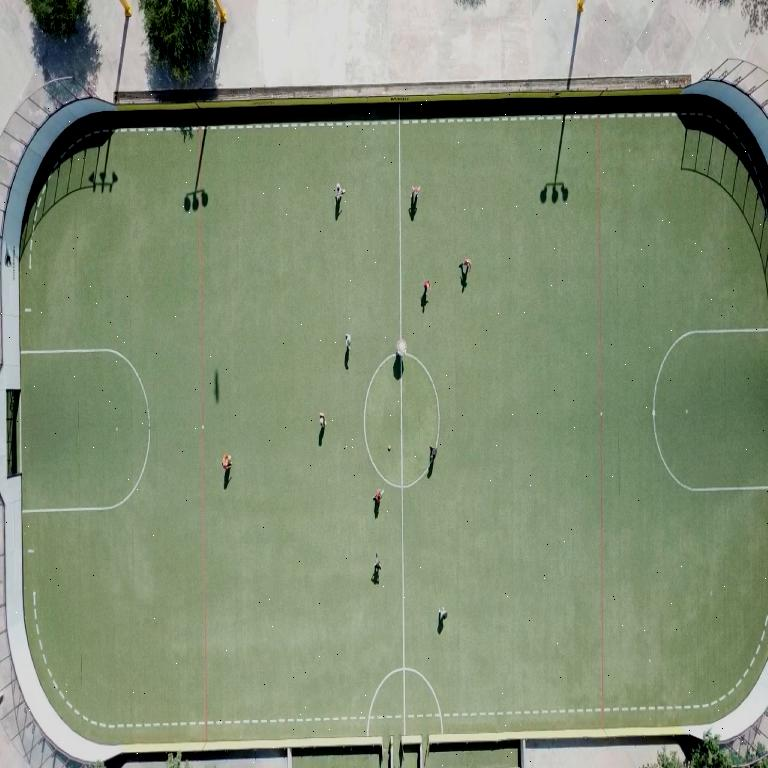AC: (22, 350, 151, 511), (653, 327, 768, 492), (713, 485, 768, 491)
B: (388, 446, 391, 450)
MC: (399, 361, 405, 734)
P: (373, 554, 382, 581), (459, 259, 470, 275), (411, 186, 419, 207), (335, 183, 344, 201), (398, 339, 407, 355), (373, 489, 381, 506), (222, 454, 230, 470), (429, 445, 436, 463), (438, 607, 446, 622), (423, 280, 429, 296), (319, 412, 325, 428), (345, 333, 350, 350)
